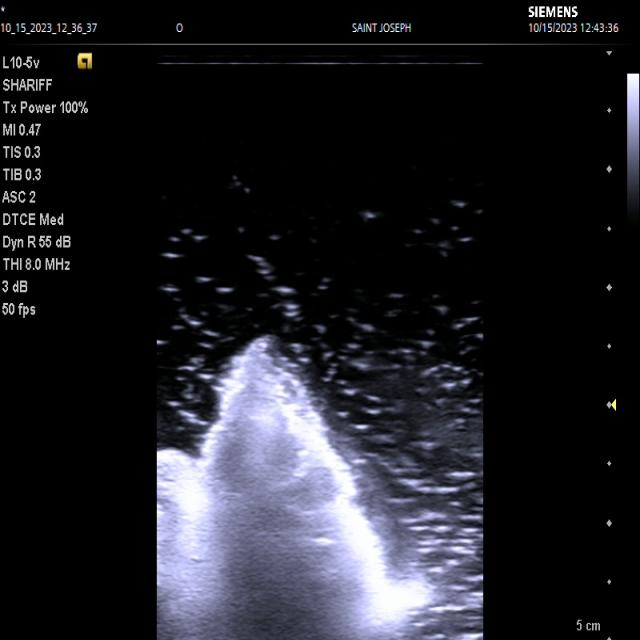tissue: (158, 336, 426, 640)
